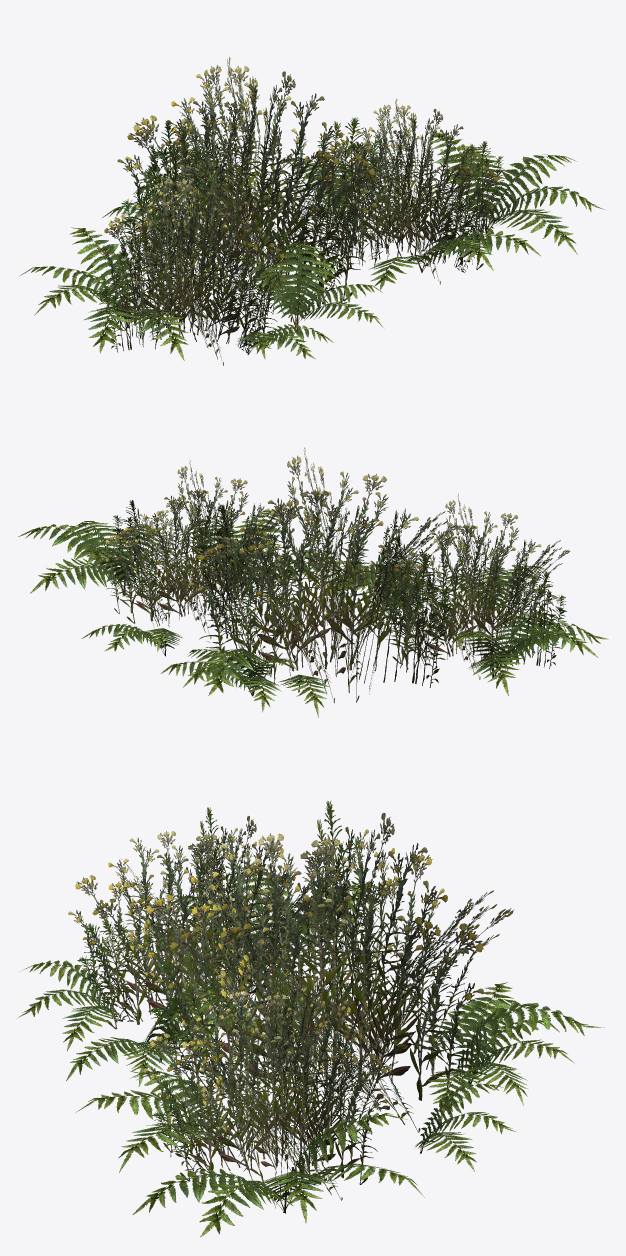
The model's file is S_Plant_Green037.FBX.
3 renders of one model, top to bottom at view 1: azimuth 30°, elevation 25°; view 2: azimuth 150°, elevation 25°; view 3: azimuth 270°, elevation 25°, orthographic. The views are drawn at different scales.
Visible parts, largest first — view 1: S_Plant_Green037; view 2: S_Plant_Green037; view 3: S_Plant_Green037.
Boxes of the visible parts, x1,y1,x2,y2 form: S_Plant_Green037: (20,57,605,365); S_Plant_Green037: (18,447,608,717); S_Plant_Green037: (18,801,604,1236).
Size of the model in its own units: 255 by 179 by 87.43.
